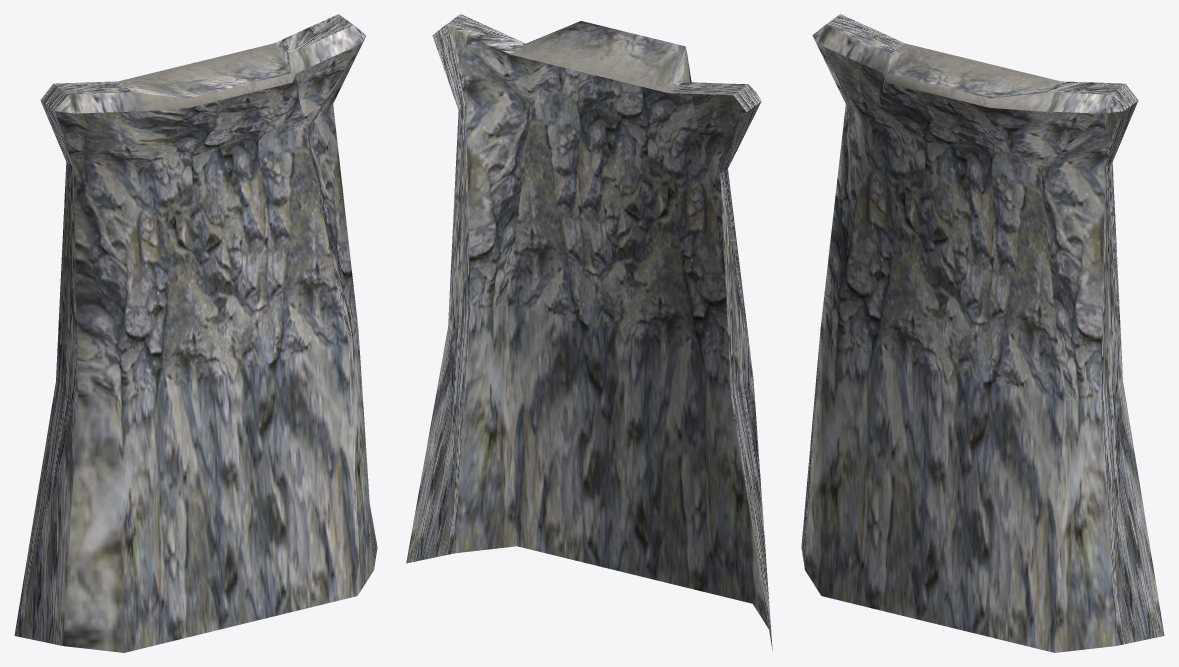
File: PlatformSimple_Edge02.FBX
The picture shows the model from 3 angles, left to right: view 1: azimuth 30°, elevation 25°; view 2: azimuth 150°, elevation 25°; view 3: azimuth 330°, elevation 25°; orthographic projection.
Visible parts, largest first — view 1: Edge01; view 2: Edge01; view 3: Edge01.
Boxes of the visible parts, x1,y1,x2,y2 form: Edge01: [14, 14, 377, 652]; Edge01: [406, 14, 772, 650]; Edge01: [801, 14, 1164, 652].
Size of the model in its own units: 1400 by 2000 by 300.
2 materials, 2 textured.
